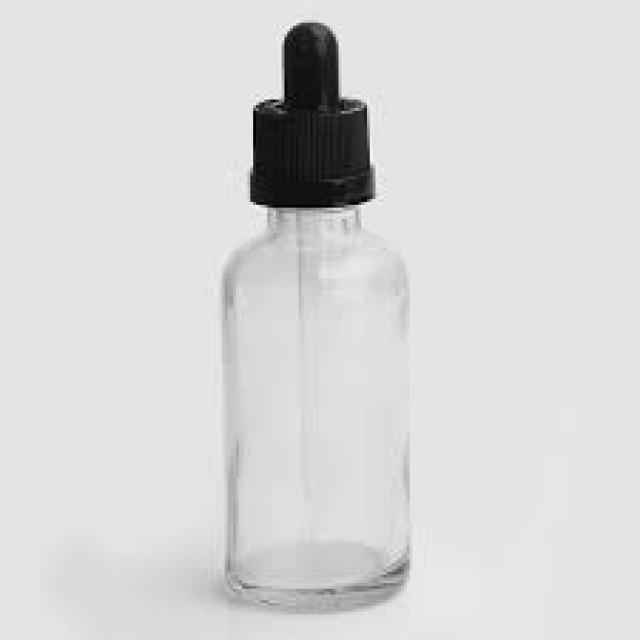glass: (219, 202, 404, 612)
plastic: (250, 17, 373, 202)
